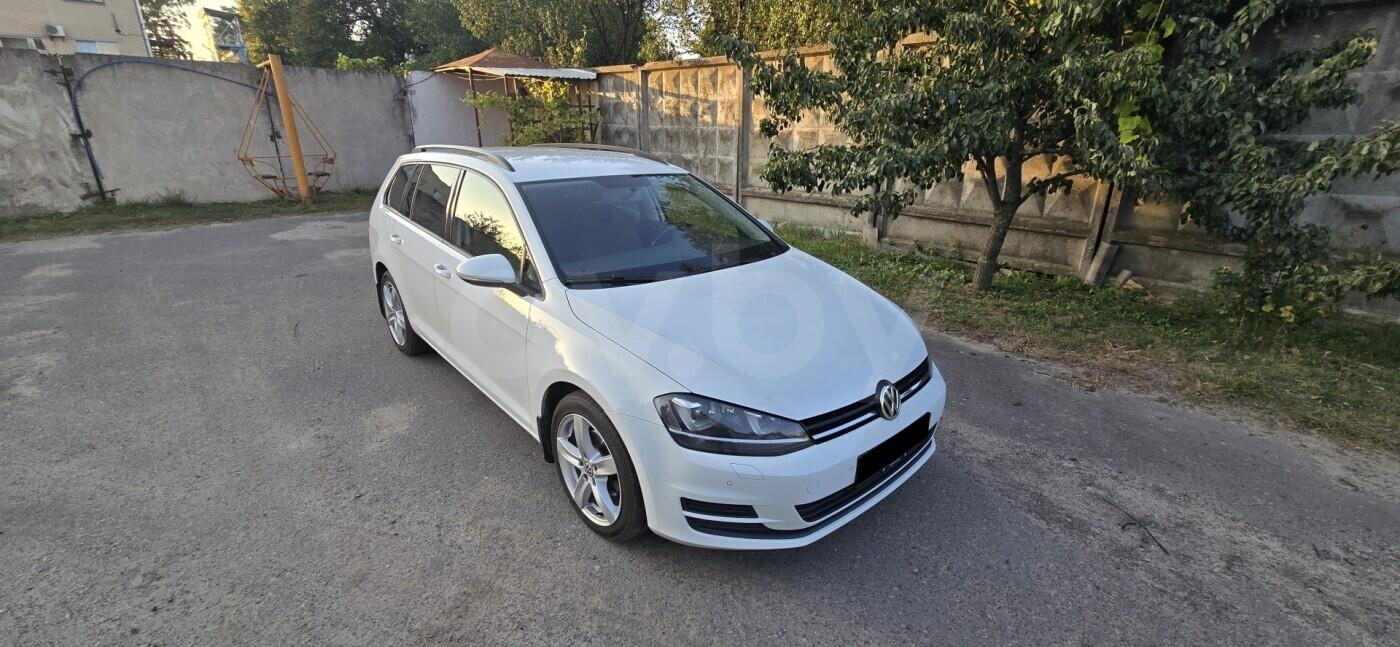Golf_2012-2017: (369, 143, 958, 550)
